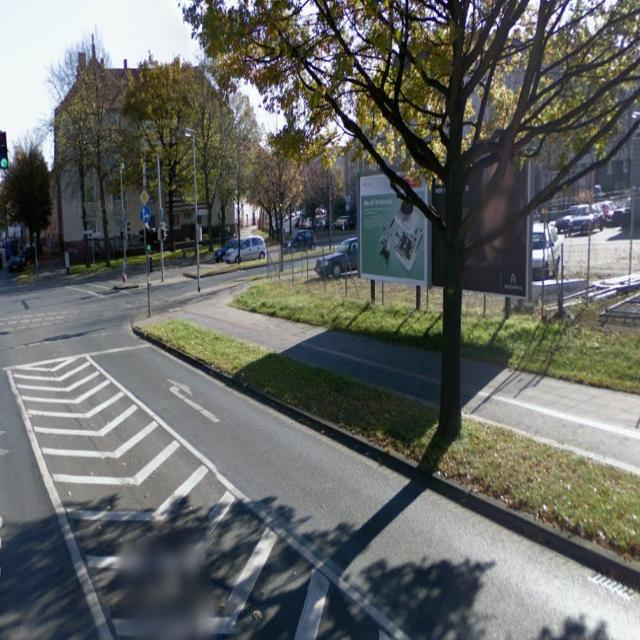Werbetafel frei: (357, 172, 433, 290)
